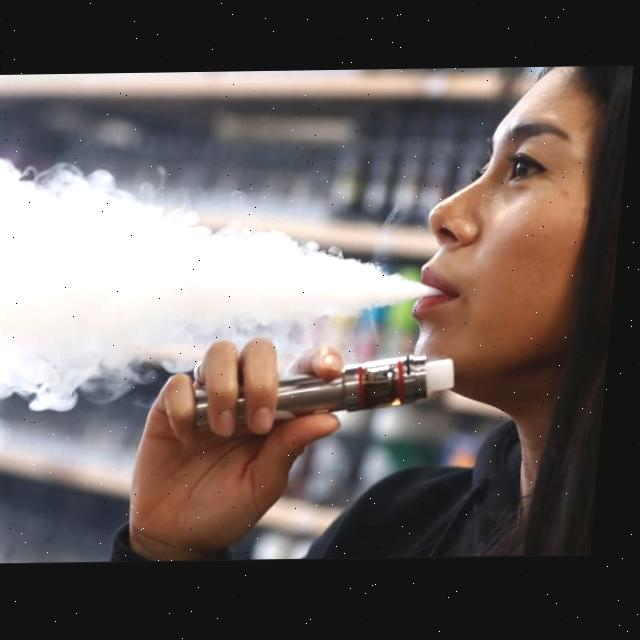vape: (200, 358, 463, 430)
